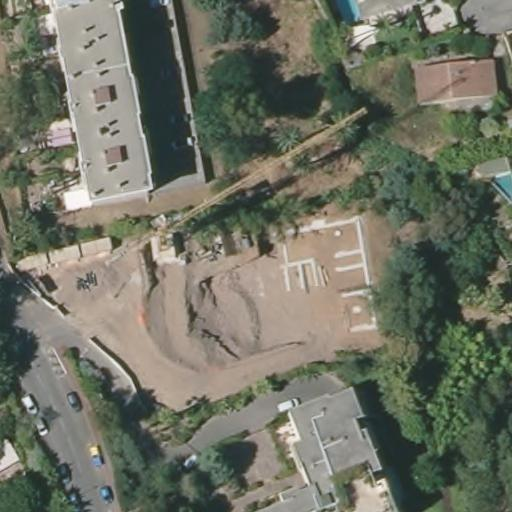pool: (332, 0, 359, 26), (492, 170, 511, 201)
